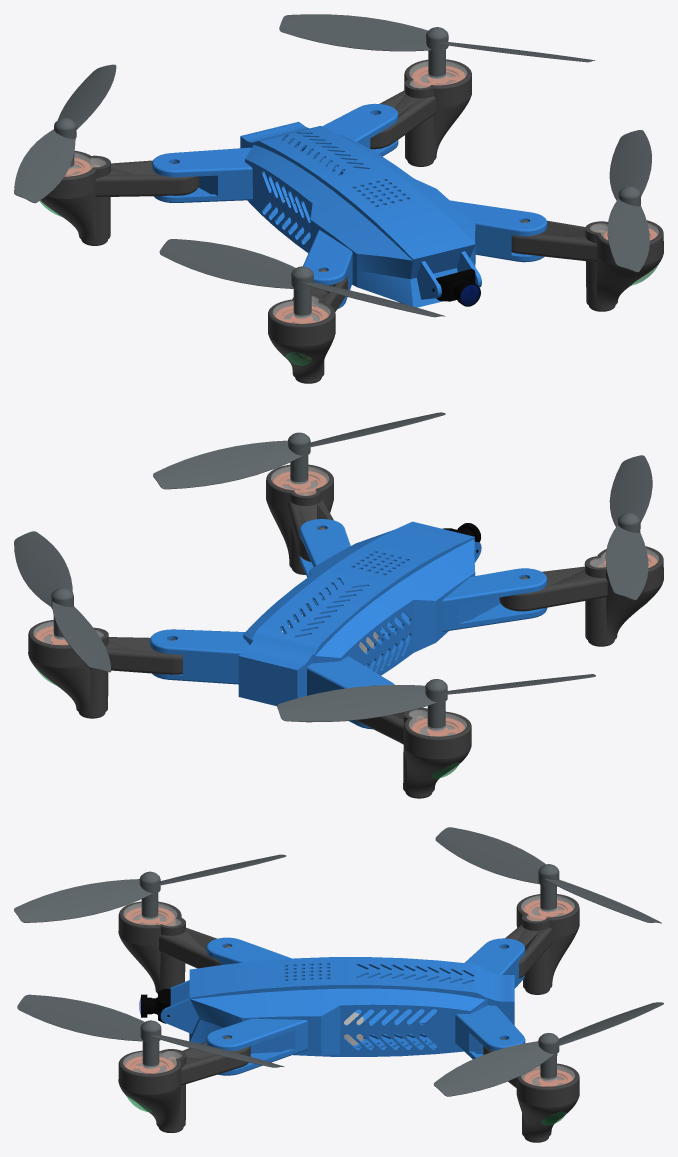
File: Drone.glb
The picture shows the model from 3 angles, top to bottom: view 1: azimuth 30°, elevation 25°; view 2: azimuth 150°, elevation 25°; view 3: azimuth 270°, elevation 25°; orthographic projection. The views are drawn at different scales.
Visible parts, largest first — view 1: Mainframe, Leg_2, Mainframe.001, Leg_1, Impellar_Blade_4, Leg_3, Impellar_Blade_1, Impellar_Blade_2, Impellar_Blade_3, Leg_4, Beater_disc, Arm_gear_1; view 2: Mainframe, Mainframe.001, Leg_1, Leg_4, Impellar_Blade_2, Impellar_Blade_3, Leg_2, Impellar_Blade_1, Impellar_Blade_4, Leg_3, Arm_gear_3; view 3: Mainframe, Mainframe.001, Leg_3, Leg_4, Impellar_Blade_3, Impellar_Blade_4, Impellar_Blade_1, Impellar_Blade_2, Leg_2, Leg_1, Beater_disc, Arm_gear_2 (+3 smaller).
Boxes of the visible parts, left/top/right/bottom form: Mainframe: left=152, top=103, right=547, bottom=292; Leg_2: left=39, top=150, right=199, bottom=245; Mainframe.001: left=154, top=140, right=544, bottom=308; Leg_1: left=370, top=59, right=471, bottom=166; Impellar_Blade_4: left=159, top=239, right=445, bottom=318; Leg_3: left=511, top=220, right=663, bottom=311; Impellar_Blade_1: left=279, top=14, right=594, bottom=78; Impellar_Blade_2: left=14, top=64, right=116, bottom=203; Impellar_Blade_3: left=607, top=130, right=651, bottom=272; Leg_4: left=268, top=275, right=347, bottom=383; Beater_disc: left=432, top=268, right=480, bottom=306; Arm_gear_1: left=411, top=66, right=465, bottom=87; Mainframe: left=149, top=519, right=547, bottom=692; Mainframe.001: left=152, top=548, right=547, bottom=729; Leg_1: left=28, top=620, right=182, bottom=718; Leg_4: left=499, top=546, right=663, bottom=646; Impellar_Blade_2: left=277, top=674, right=595, bottom=730; Impellar_Blade_3: left=153, top=412, right=445, bottom=489; Leg_2: left=356, top=707, right=471, bottom=798; Impellar_Blade_1: left=14, top=531, right=110, bottom=672; Impellar_Blade_4: left=605, top=455, right=652, bottom=600; Leg_3: left=266, top=464, right=333, bottom=574; Arm_gear_3: left=272, top=471, right=326, bottom=495; Mainframe: left=160, top=937, right=525, bottom=1050; Mainframe.001: left=160, top=971, right=524, bottom=1075; Leg_3: left=118, top=1041, right=250, bottom=1132; Leg_4: left=118, top=901, right=221, bottom=993; Impellar_Blade_3: left=17, top=994, right=284, bottom=1068; Impellar_Blade_4: left=14, top=854, right=286, bottom=922; Impellar_Blade_1: left=433, top=1002, right=663, bottom=1096; Impellar_Blade_2: left=435, top=827, right=661, bottom=923; Leg_2: left=505, top=894, right=579, bottom=994; Leg_1: left=483, top=1046, right=579, bottom=1142; Beater_disc: left=139, top=988, right=170, bottom=1023; Arm_gear_2: left=523, top=899, right=573, bottom=920.
Bounding box in the file's own units: 29.59 × 6.18 × 30.97.
